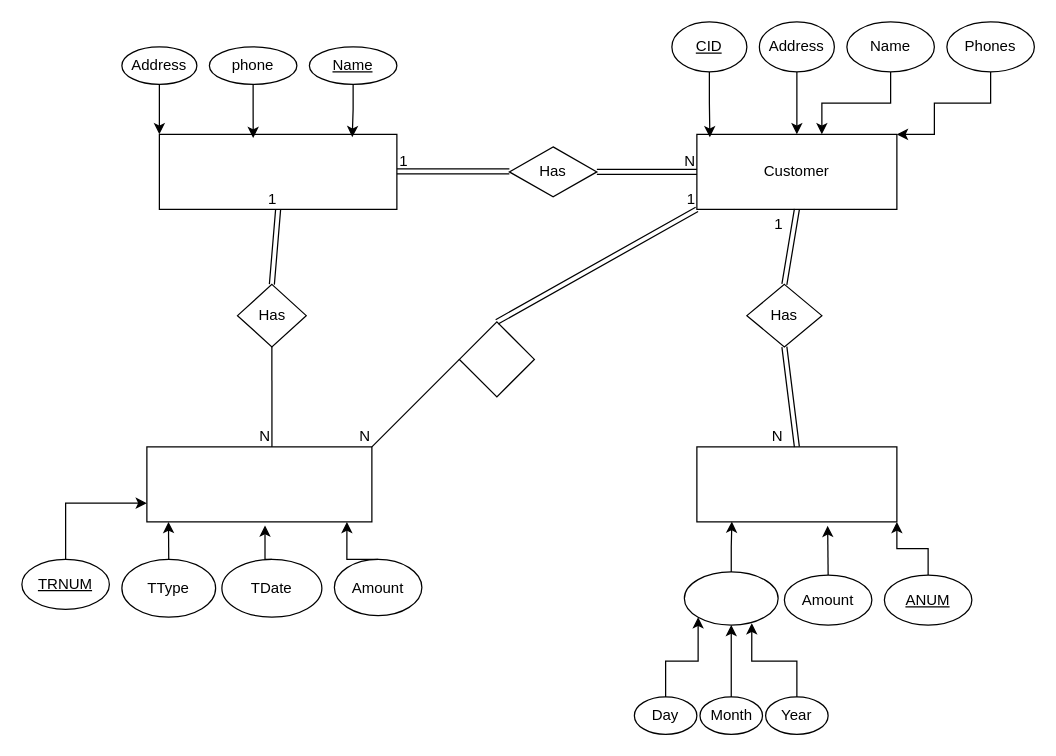
The diagram is 1056 pixels wide and 756 high, and some of its shapes have lost their labels. The shapes that lost their labels are listed below. From the top down, each one's centre as x and y in pixels, then its label:
At point (277, 171): "Branch".
At point (496, 359): "Made".
At point (259, 484): "Transuction".
At point (796, 484): "Account".
At point (730, 598): "LTdate".
